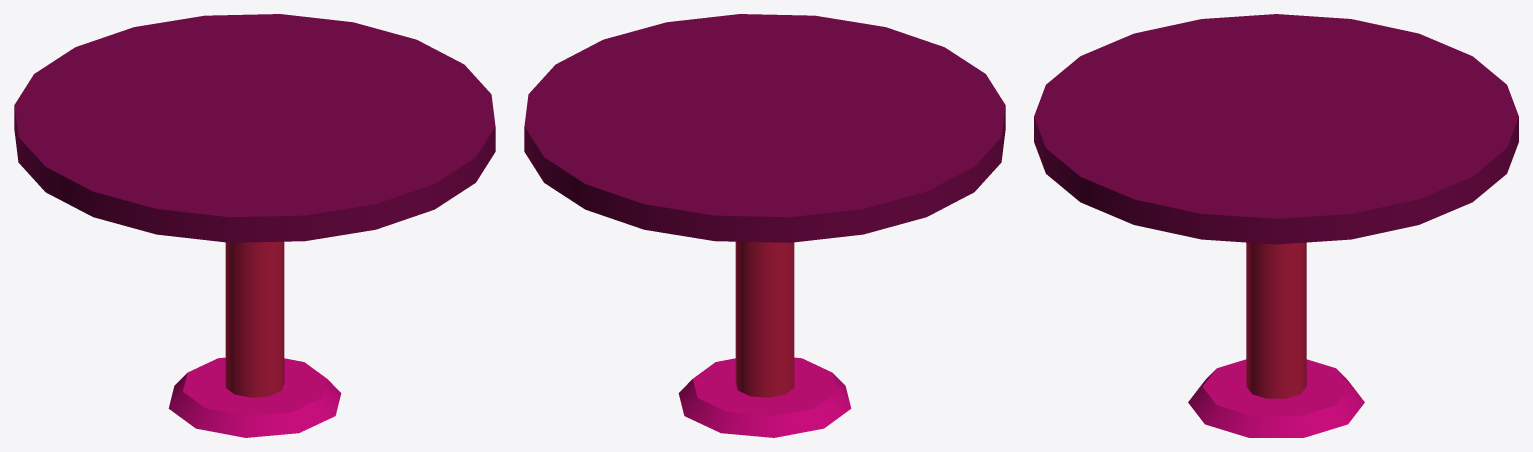
The model's file is coffe_table_06.fbx.
3 views of the same model, side by side, from view 1: azimuth 30°, elevation 25°; view 2: azimuth 150°, elevation 25°; view 3: azimuth 270°, elevation 25° (orthographic).
Visible parts, largest first — view 1: coffe_table_06; view 2: coffe_table_06; view 3: coffe_table_06.
Part boxes in pixels (x1,y1,x2,y2): coffe_table_06: (14,14,495,437); coffe_table_06: (524,14,1005,437); coffe_table_06: (1034,14,1518,437).
Bounding box in the file's own units: 1.2 × 0.7808 × 1.2.
